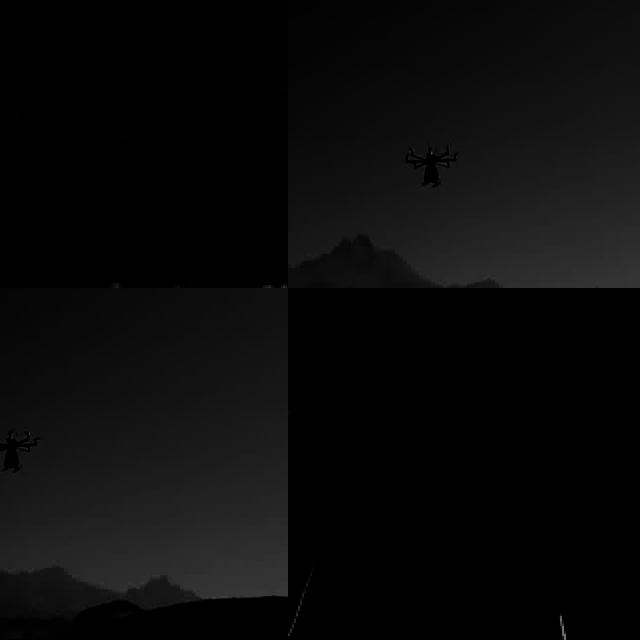0: (490, 594, 518, 624)
drone: (401, 139, 458, 192), (0, 425, 39, 476)
